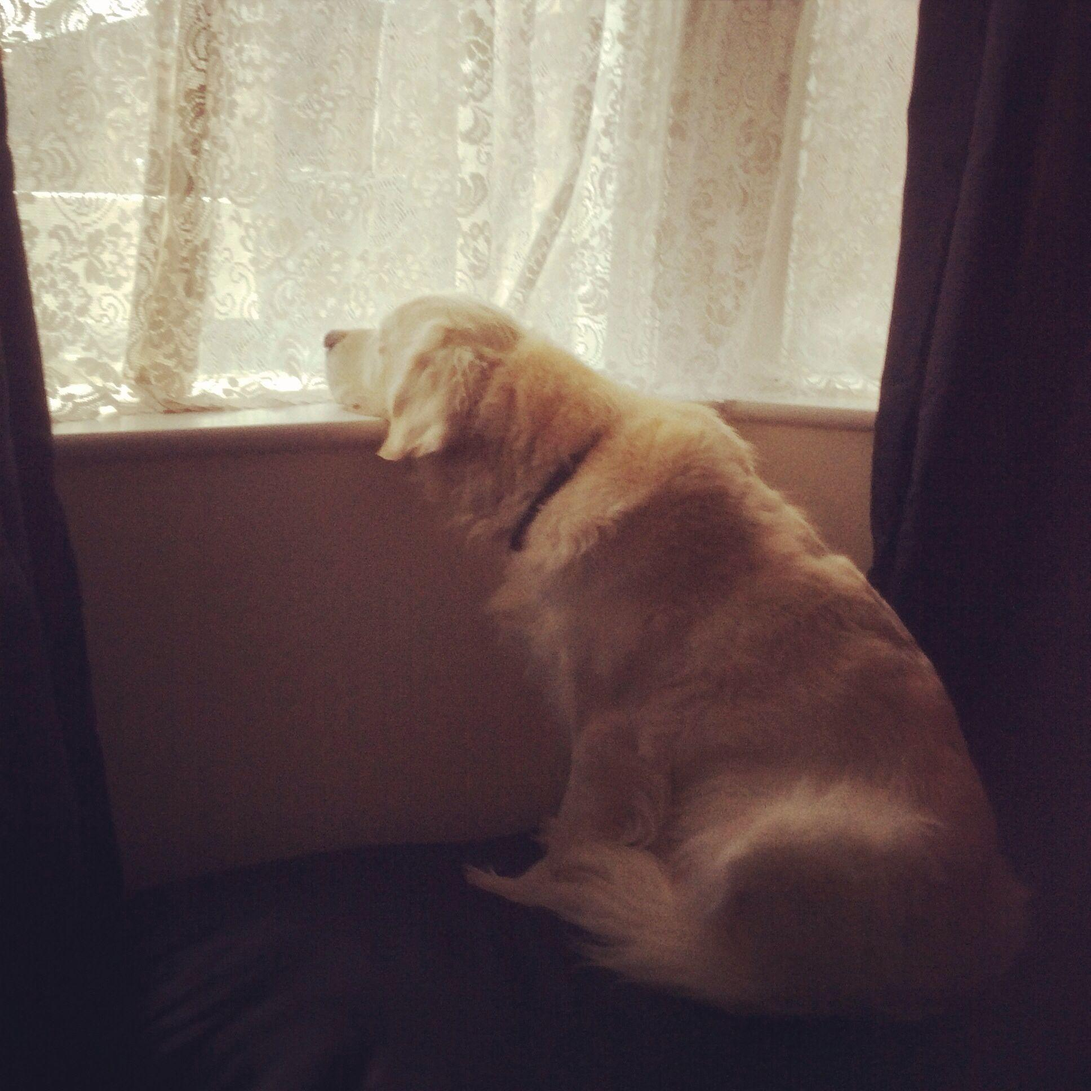adult_dog: (320, 291, 1037, 1025)
